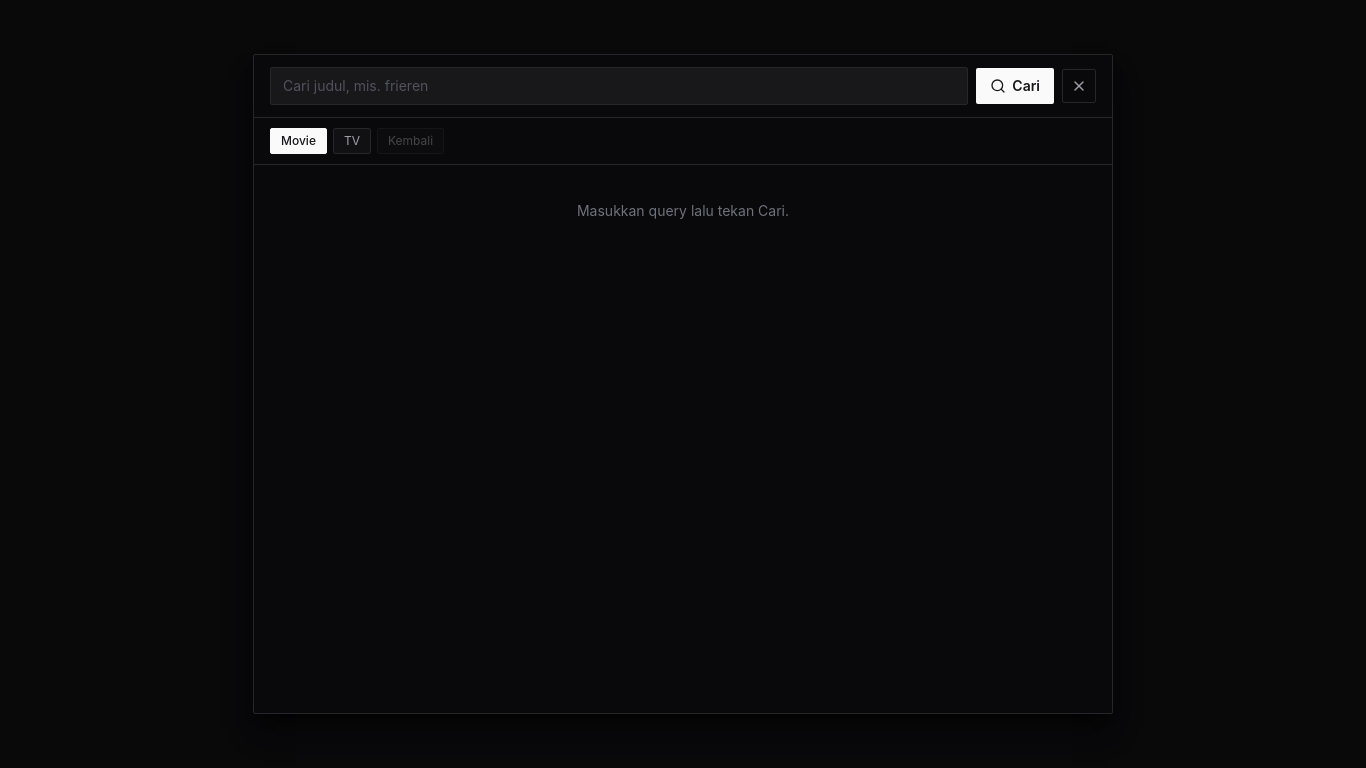
SearchDialog › tab Movie: meta mengandung id TMDB langsung membuka daftar stream (per kualitas)
The image size is (1366, 768).
Type "spiderman" into the field with placeholder "Cari judul, mis. frieren" at [619, 86], box [270,67,968,105]
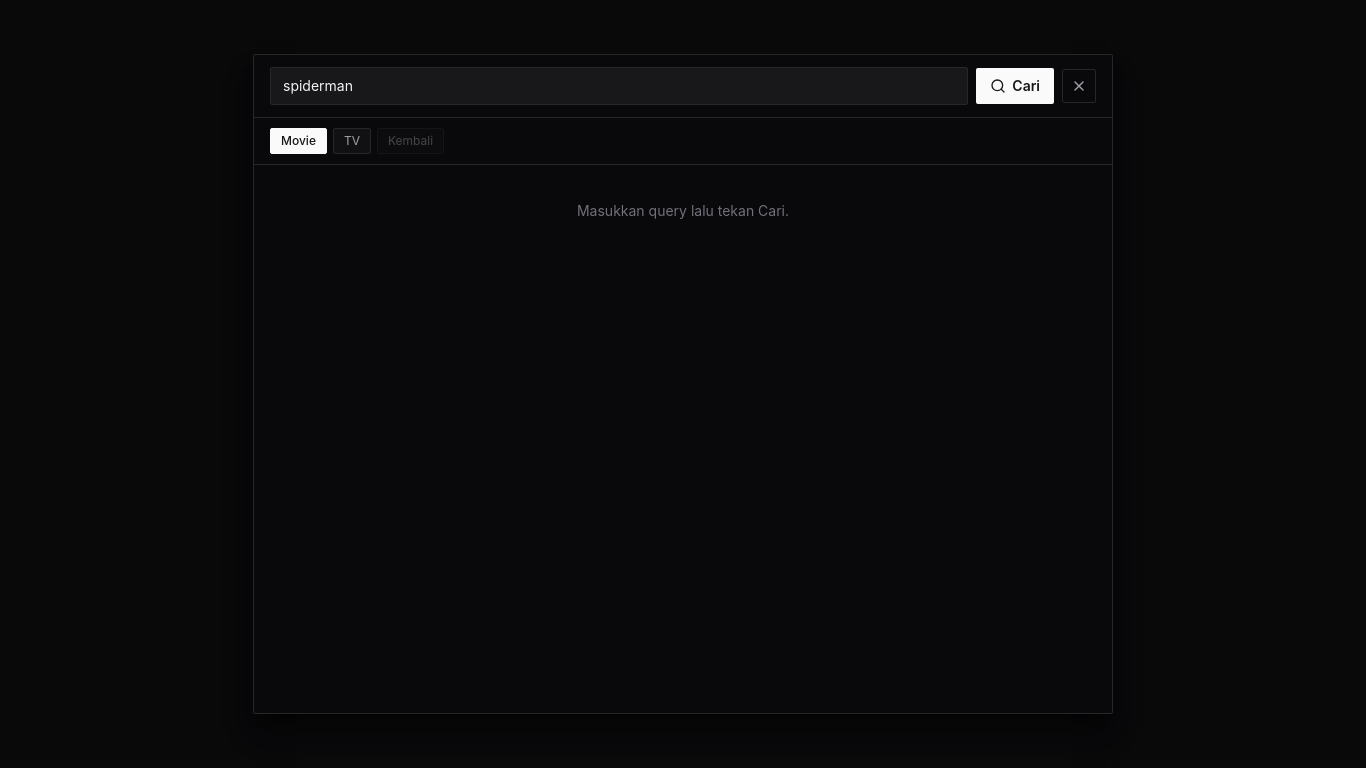
Click the button "Cari" at [1015, 86], box [976,68,1054,104]
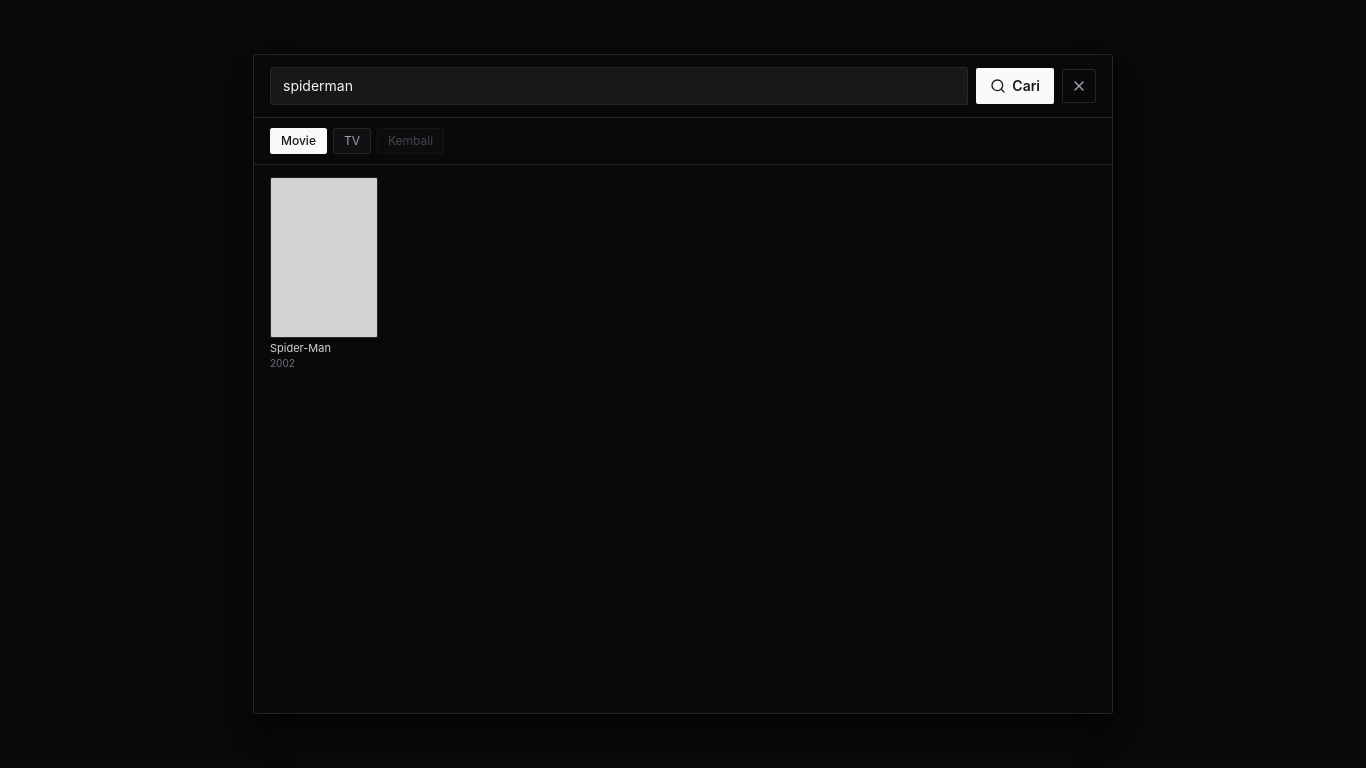
Click the text "Spider-Man" at [300, 349], box [270,342,331,356]
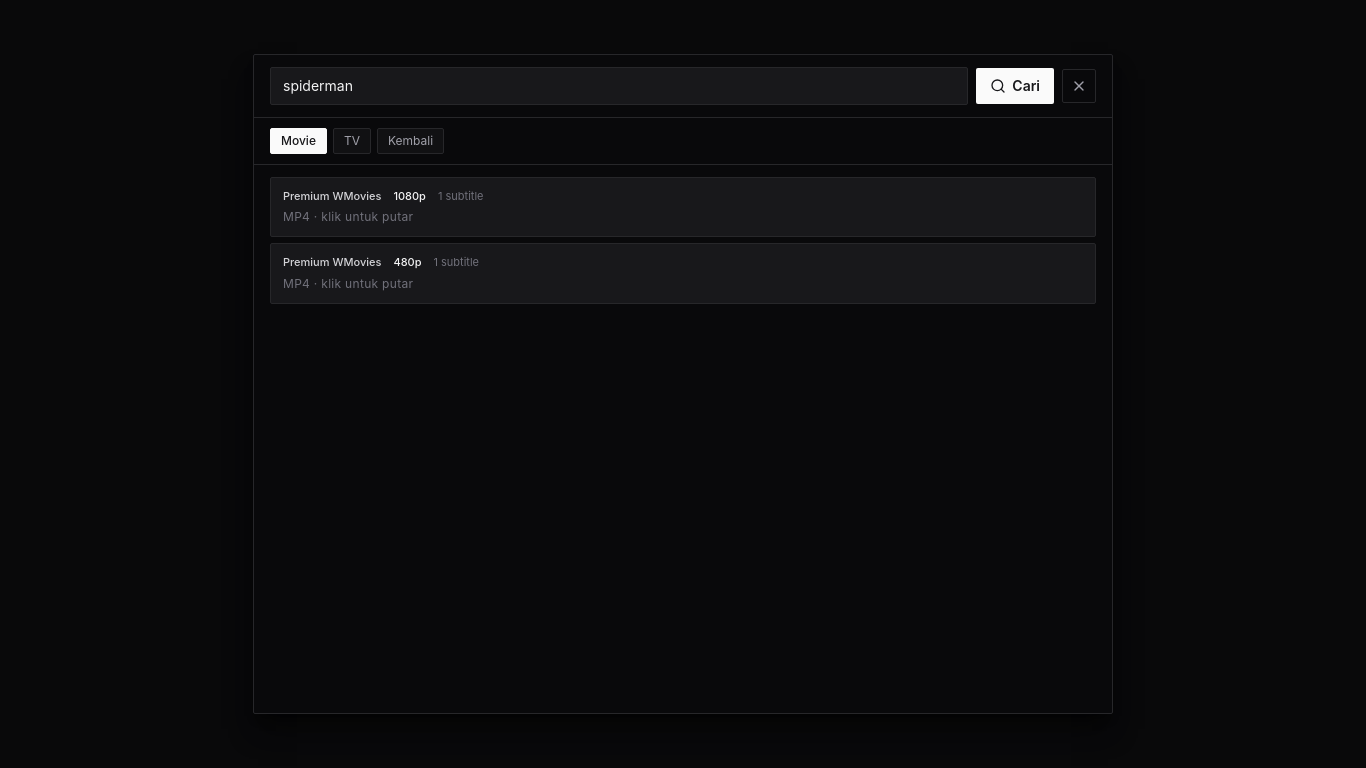
Result: the text "1080p" is shown at [393,188,426,204]
Result: the 1st text "Premium WMovies" is shown at [283,188,381,204]
